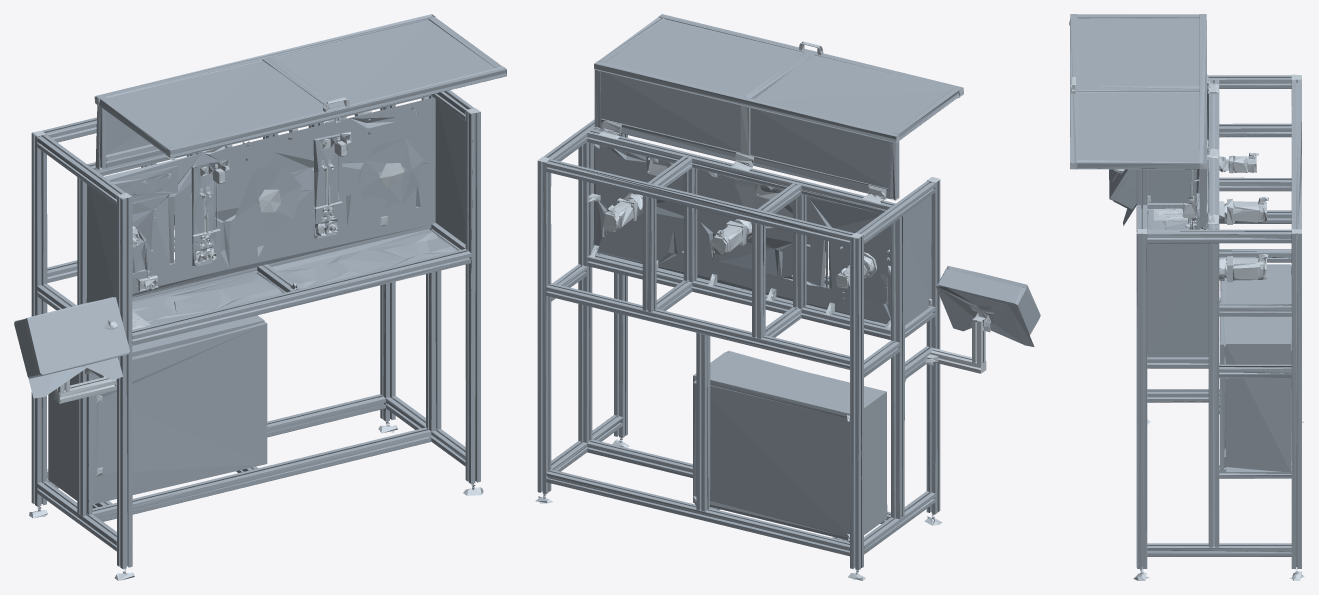
File: _essai-couleur.glb
3 renders of one model, left to right at view 1: azimuth 30°, elevation 25°; view 2: azimuth 150°, elevation 25°; view 3: azimuth 270°, elevation 25°, orthographic. The views are drawn at different scales.
Parts seen in each view (by area): view 1: Node18, Node1; view 2: Node18, Node1; view 3: Node18, Node1.
Boxes of the visible parts, x1,y1,x2,y2 form: Node18: (14,14,506,568); Node1: (29,14,506,580); Node18: (537,14,1040,570); Node1: (535,14,997,580); Node18: (1070,14,1301,568); Node1: (1069,14,1304,580).
Size of the model in its own units: 2035 by 1960 by 997.
